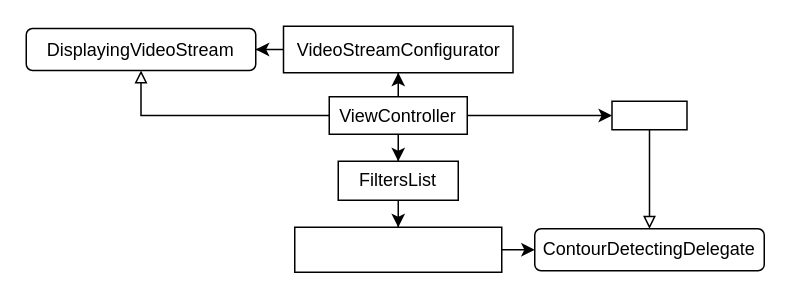
The diagram is 791 pixels wide and 299 high, and some of its shapes have lost their labels. Here are the shapes that lost their labels. From the top down, the centre of each, then its label:
pixel 648 115: View
pixel 397 249: ContourDetectingFilter
